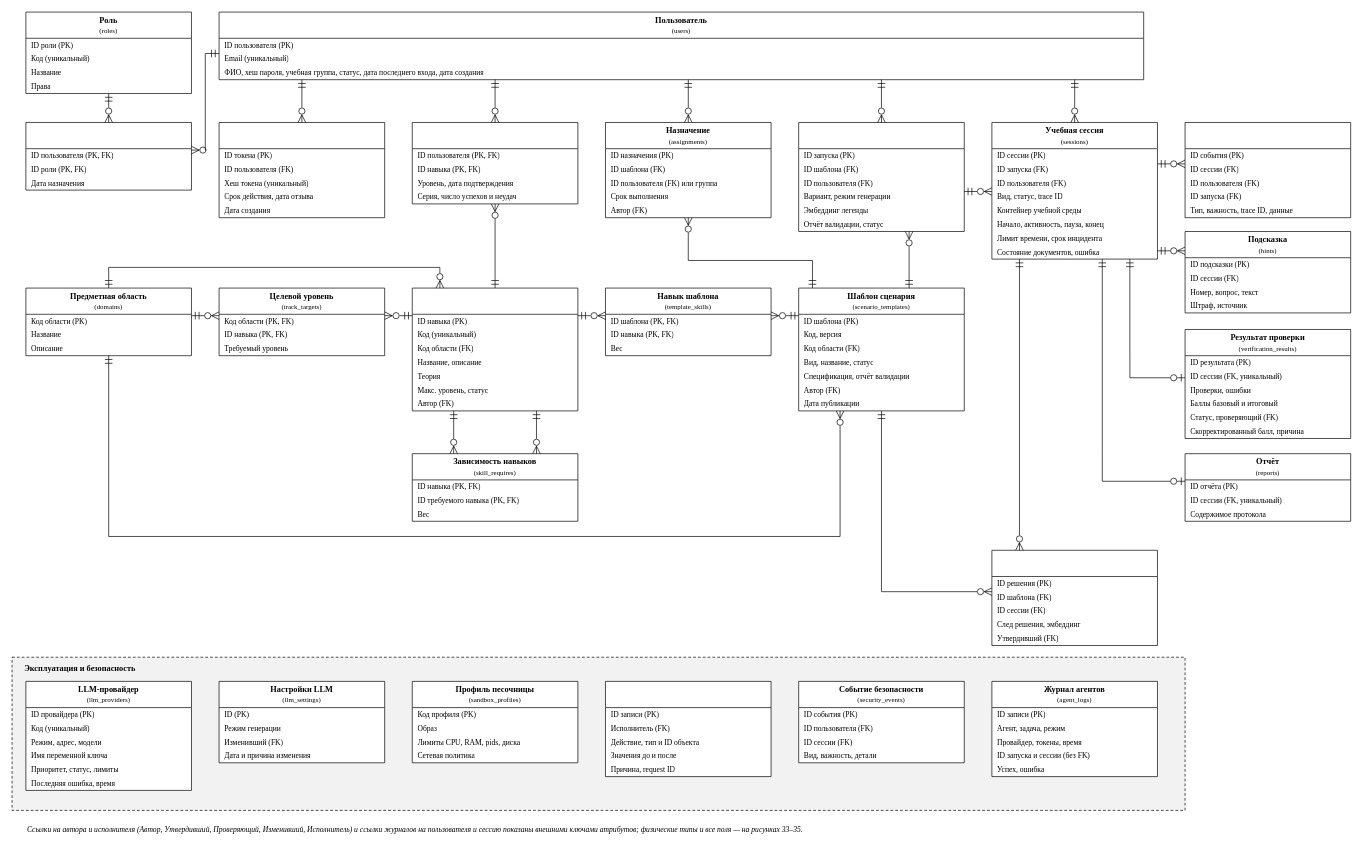
This 1363x856 diagram has some shape labels left out. Here are the shapes that lost their labels. From the top down, the box of each, then its label:
(25, 122, 191, 190): Роль пользователя (user_roles)
(218, 122, 385, 218): Refresh-токен (refresh_tokens)
(412, 122, 578, 204): Навык пользователя (user_skills)
(1184, 122, 1351, 218): Событие среды (environment_events)
(798, 122, 964, 231): Запуск сценария (scenario_runs)
(412, 287, 578, 411): Навык (skills)
(991, 550, 1157, 645): Принятое решение (accepted_solutions)
(605, 681, 771, 777): Журнал аудита (audit_logs)
